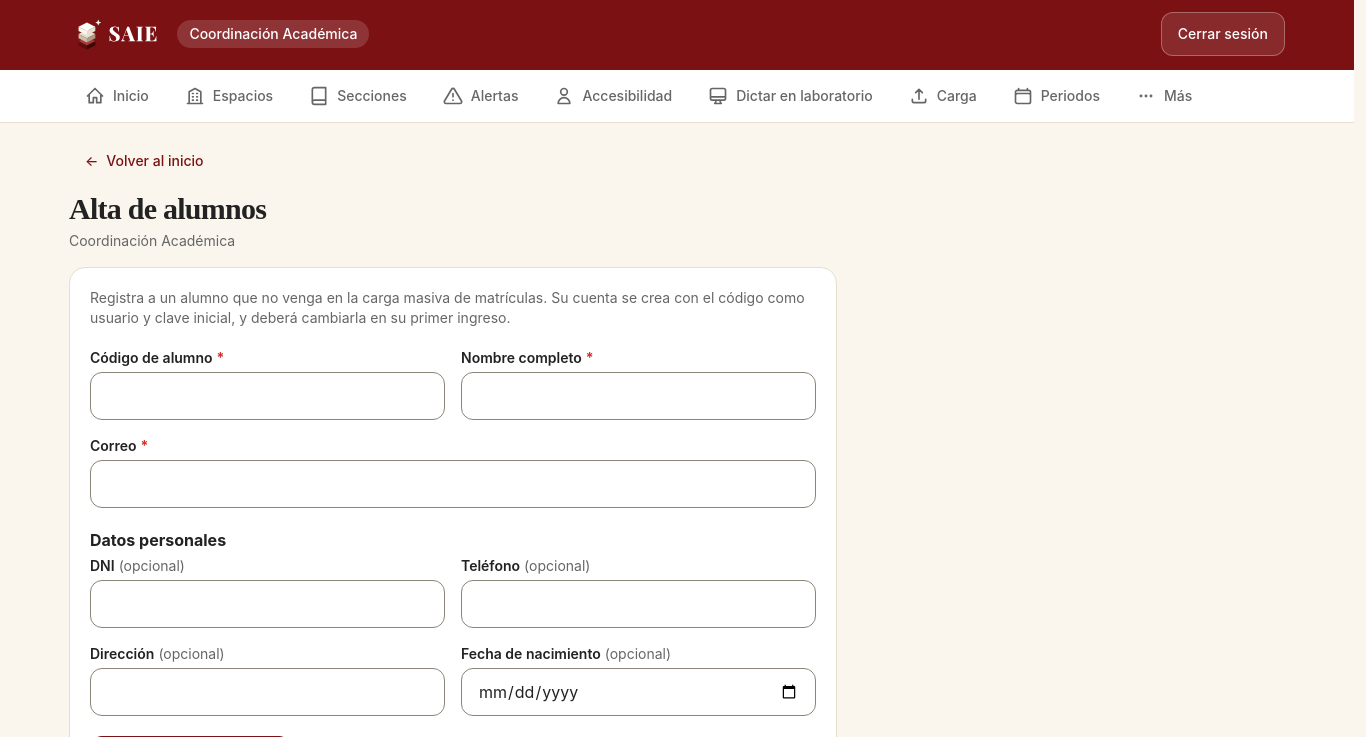
Test case: AltaAlumnoPage (Issue 4.17) › muestra el mensaje del servidor si el código ya existe (409)
Type "20200001" into the field labelled "Código de alumno*" at (268,396), box x1=90 y1=372 x2=445 y2=420
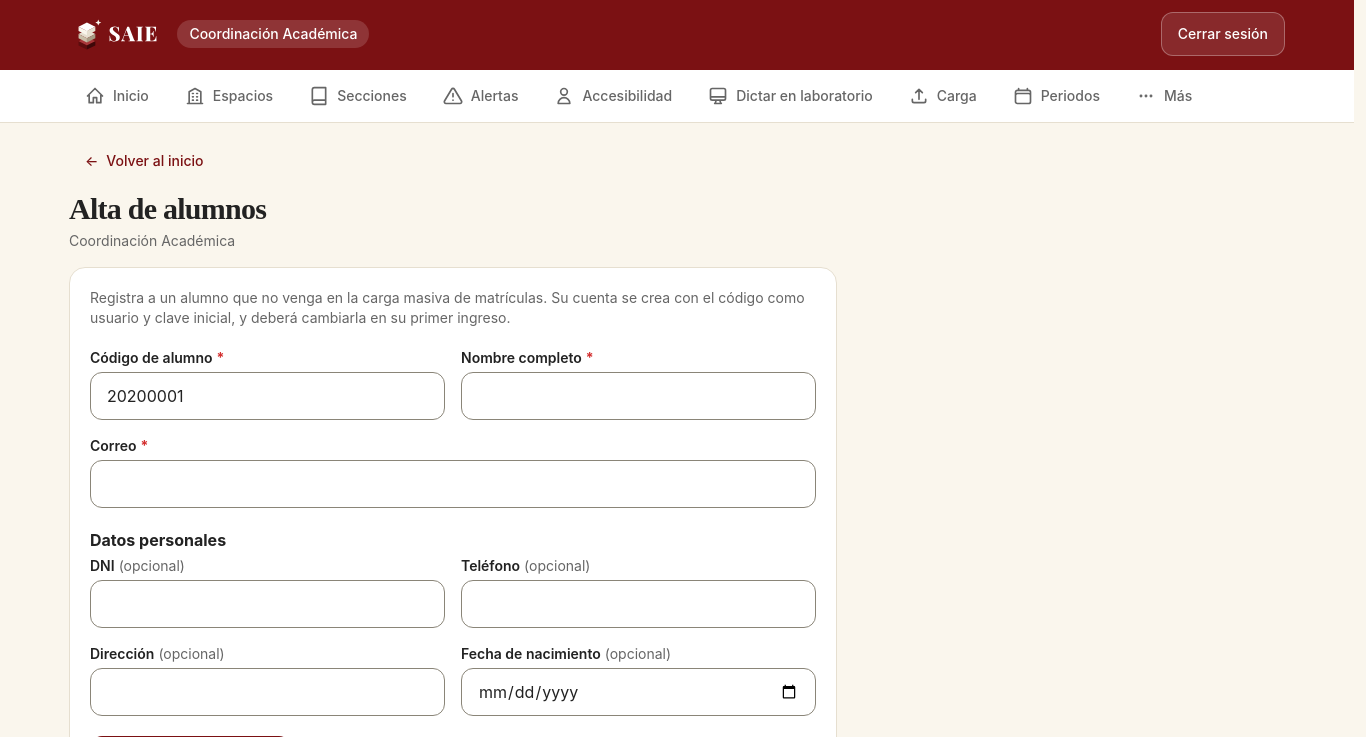
Type "Ana Pérez" into the field labelled "Nombre completo*" at (638,396), box x1=461 y1=372 x2=816 y2=420
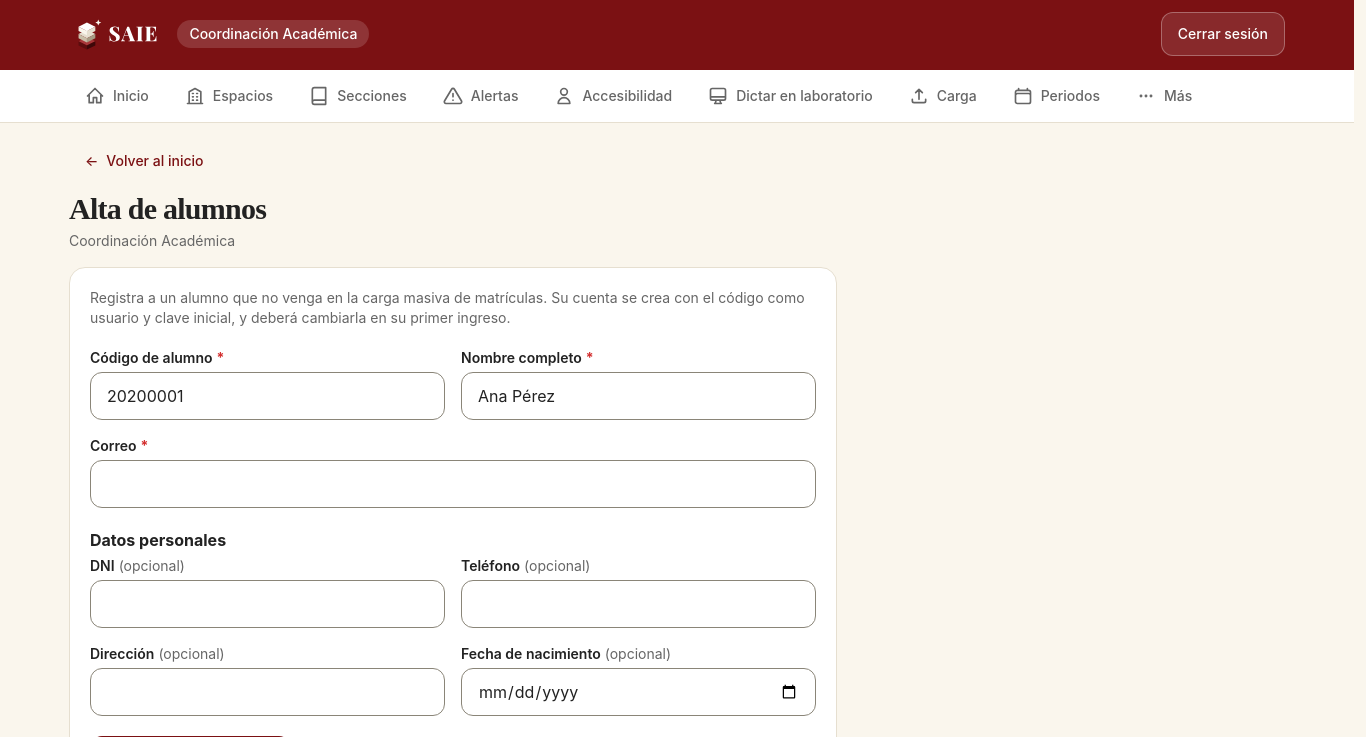
Type "ana@unmsm.pe" into the field labelled "Correo*" at (453,484), box x1=90 y1=460 x2=816 y2=508
(page scrolled)
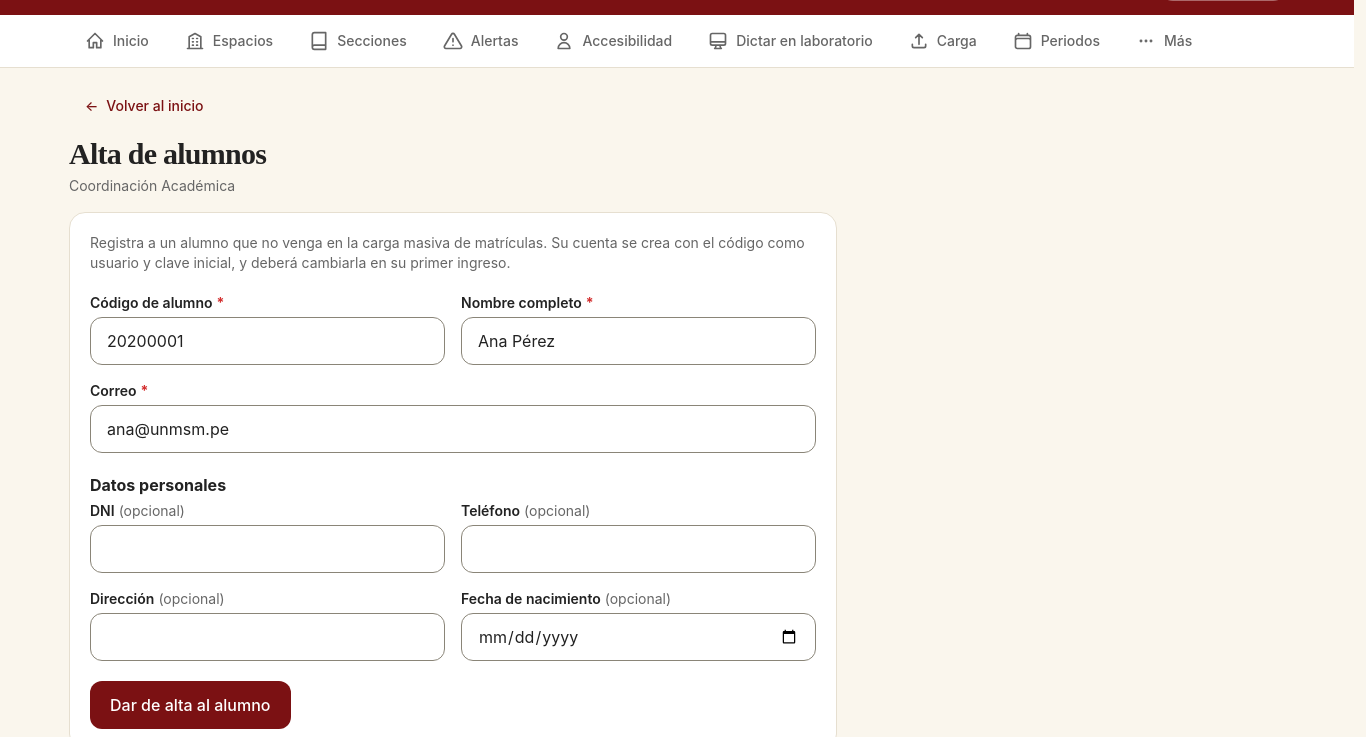
Click the button "Dar de alta al alumno" at (190,705), box x1=90 y1=681 x2=290 y2=729
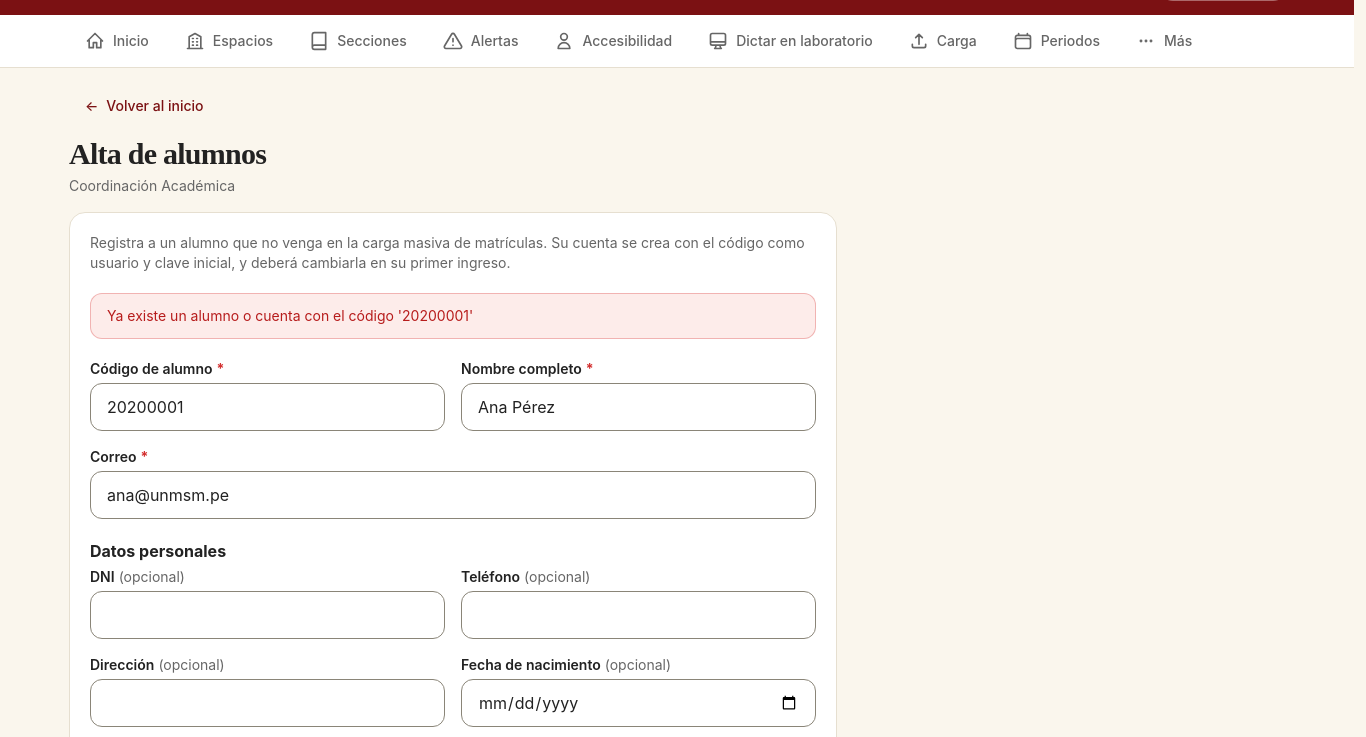
Expected: the message shows "Ya existe un alumno", x1=107 y1=307 x2=473 y2=324
